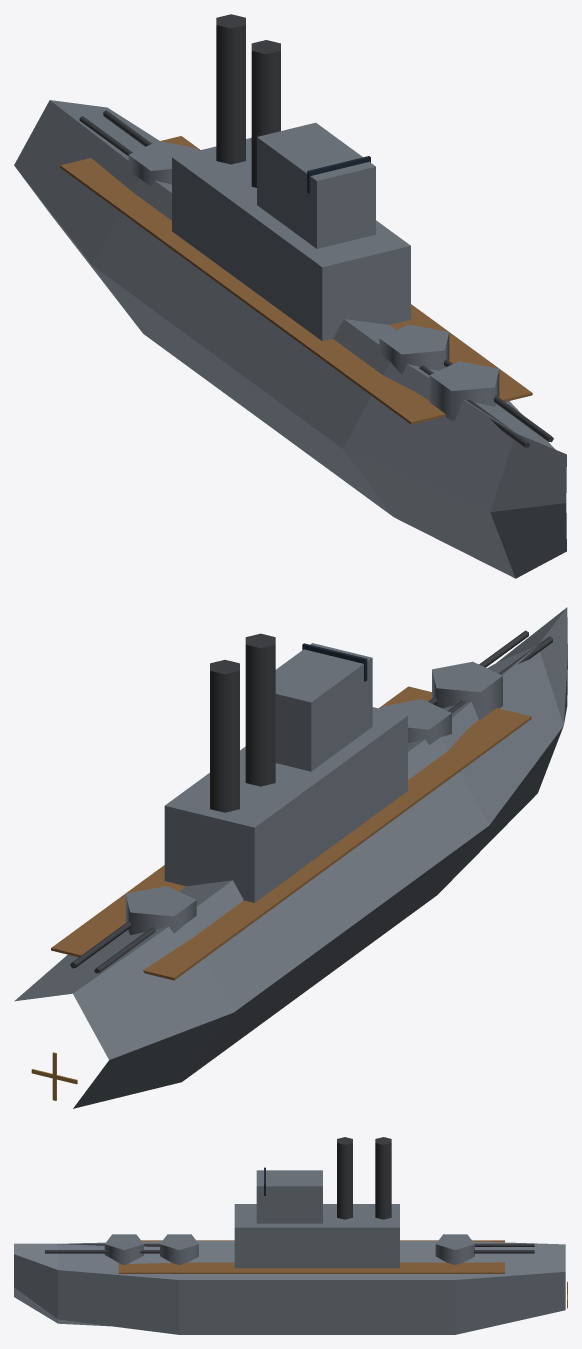
The model's file is veh_naval_warship_a06_lod1.glb.
The picture shows the model from 3 angles, top to bottom: view 1: azimuth 30°, elevation 25°; view 2: azimuth 150°, elevation 25°; view 3: azimuth 270°, elevation 25°; orthographic projection. The views are drawn at different scales.
Visible parts, largest first — view 1: body, turret_0, turret_1, turret_2; view 2: body, turret_0, turret_2, turret_1; view 3: body, turret_2, turret_0, turret_1.
Boxes of the visible parts, x1=… form: body: x1=14, y1=14, x2=566, y2=578; turret_0: x1=429, y1=361, x2=553, y2=447; turret_1: x1=379, y1=324, x2=501, y2=405; turret_2: x1=79, y1=110, x2=198, y2=186; body: x1=14, y1=607, x2=567, y2=1108; turret_0: x1=432, y1=630, x2=552, y2=719; turret_2: x1=70, y1=886, x2=196, y2=973; turret_1: x1=381, y1=696, x2=465, y2=745; body: x1=14, y1=1137, x2=565, y2=1334; turret_2: x1=435, y1=1234, x2=534, y2=1264; turret_0: x1=45, y1=1234, x2=143, y2=1264; turret_1: x1=100, y1=1234, x2=198, y2=1264.
Bounding box in the file's own units: 4.48 × 11.3 × 29.1.
